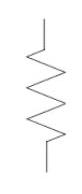resistor: (18, 36, 69, 153)
